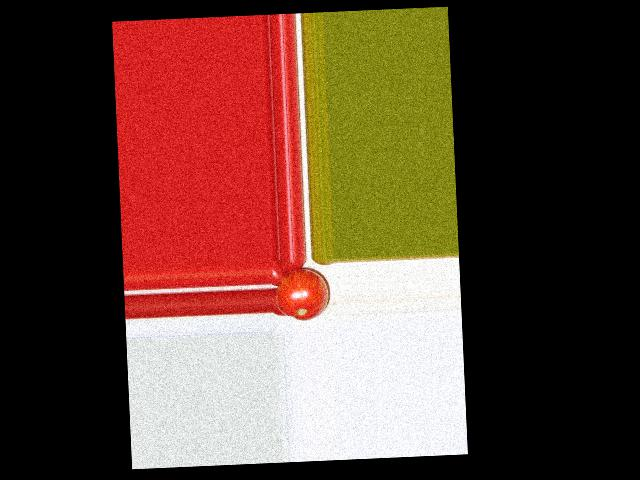tomato: (274, 267, 329, 322)
